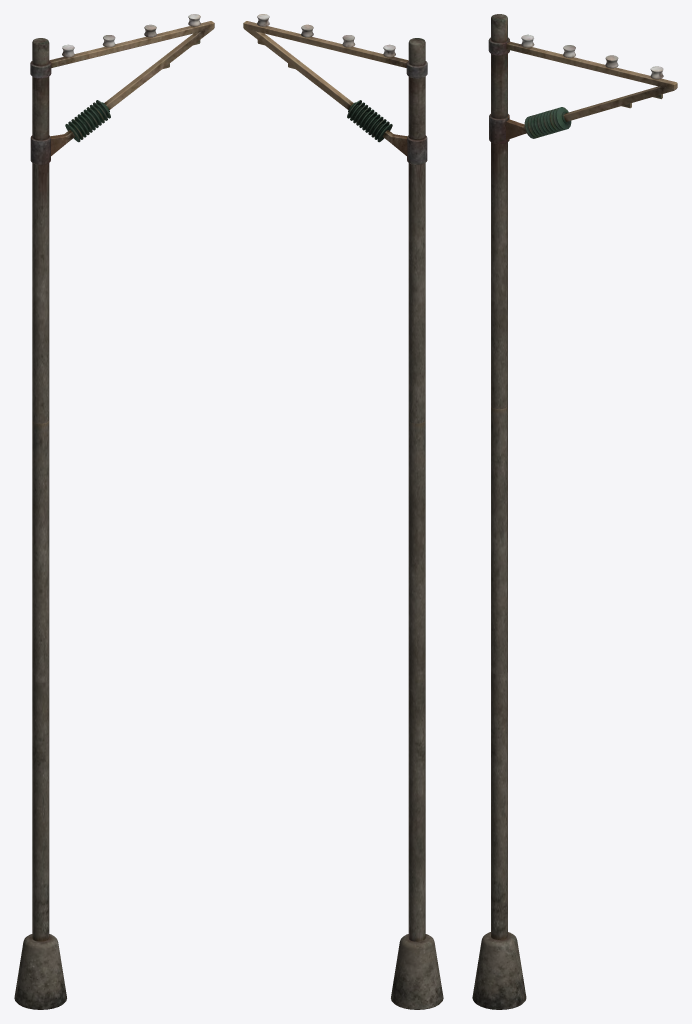
File: pole.glb
3 views of the same model, side by side, from view 1: azimuth 30°, elevation 25°; view 2: azimuth 150°, elevation 25°; view 3: azimuth 330°, elevation 25° (orthographic). The views are drawn at different scales.
Visible parts, largest first — view 1: m; view 2: m; view 3: m.
Part boxes in pixels (x1,y1,x2,y2): m: (14,14,214,1009); m: (243,14,443,1009); m: (472,14,677,1009).
Bounding box in the file's own units: 1.71 × 8 × 0.3996.
Materials: 1 (1 with a texture image).
